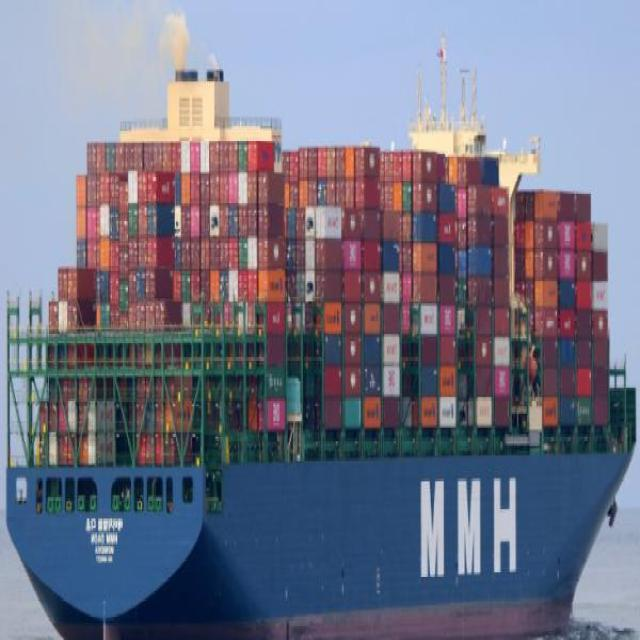Container Ship: (7, 19, 637, 640)
